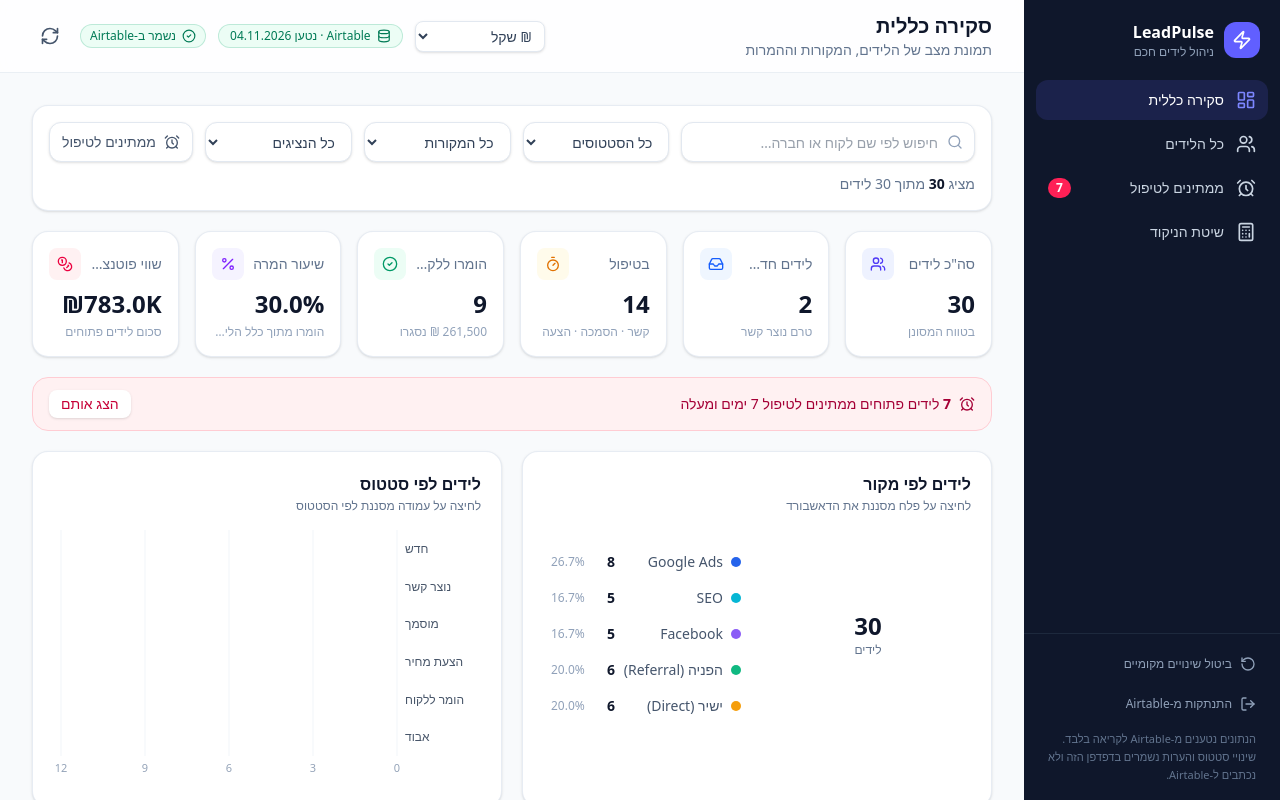
useAirtableSync (SPEC X2) › network failure: 3 retries, then an error with "נסה שוב" that succeeds
Click the button "כל הלידים": {"x": 1152, "y": 144} [1036,124,1268,164]
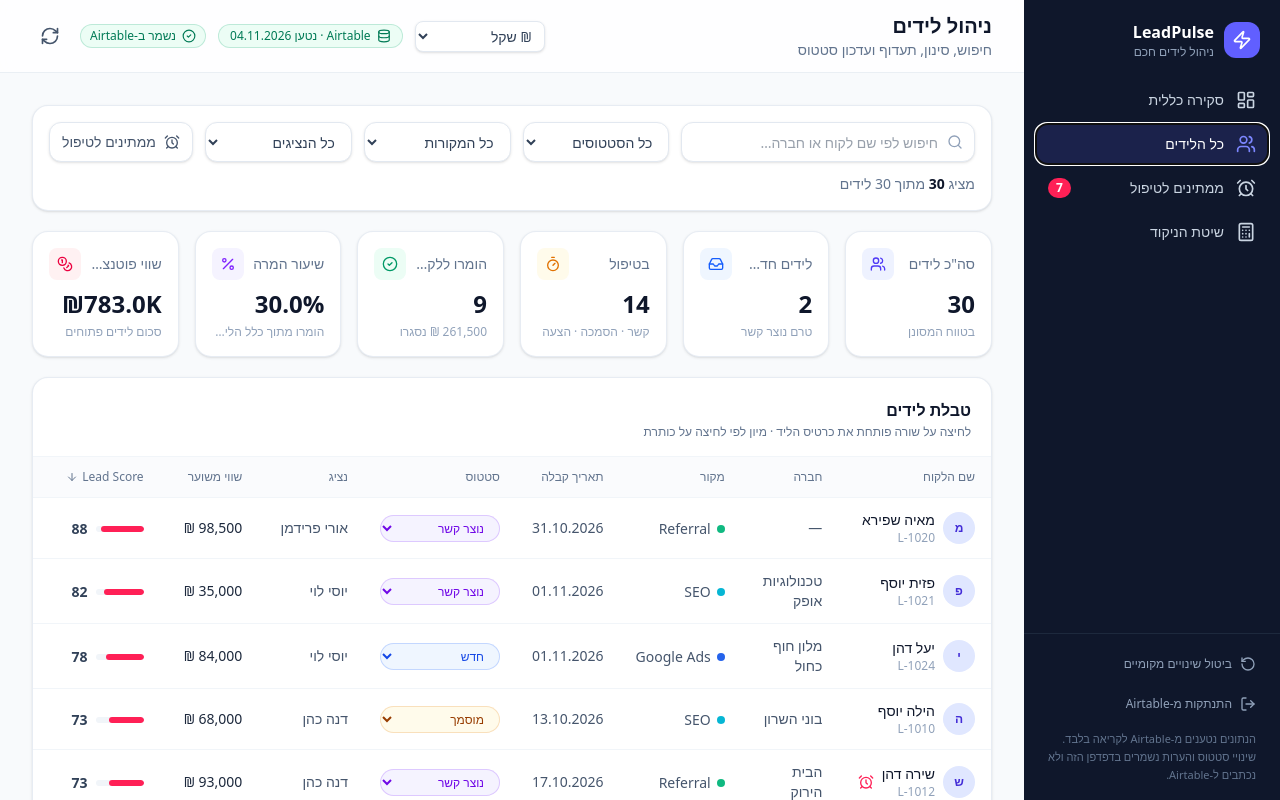
Select "הומר ללקוח" in the dropdown named "שינוי סטטוס עבור": {"x": 440, "y": 528} [380,514,500,542]
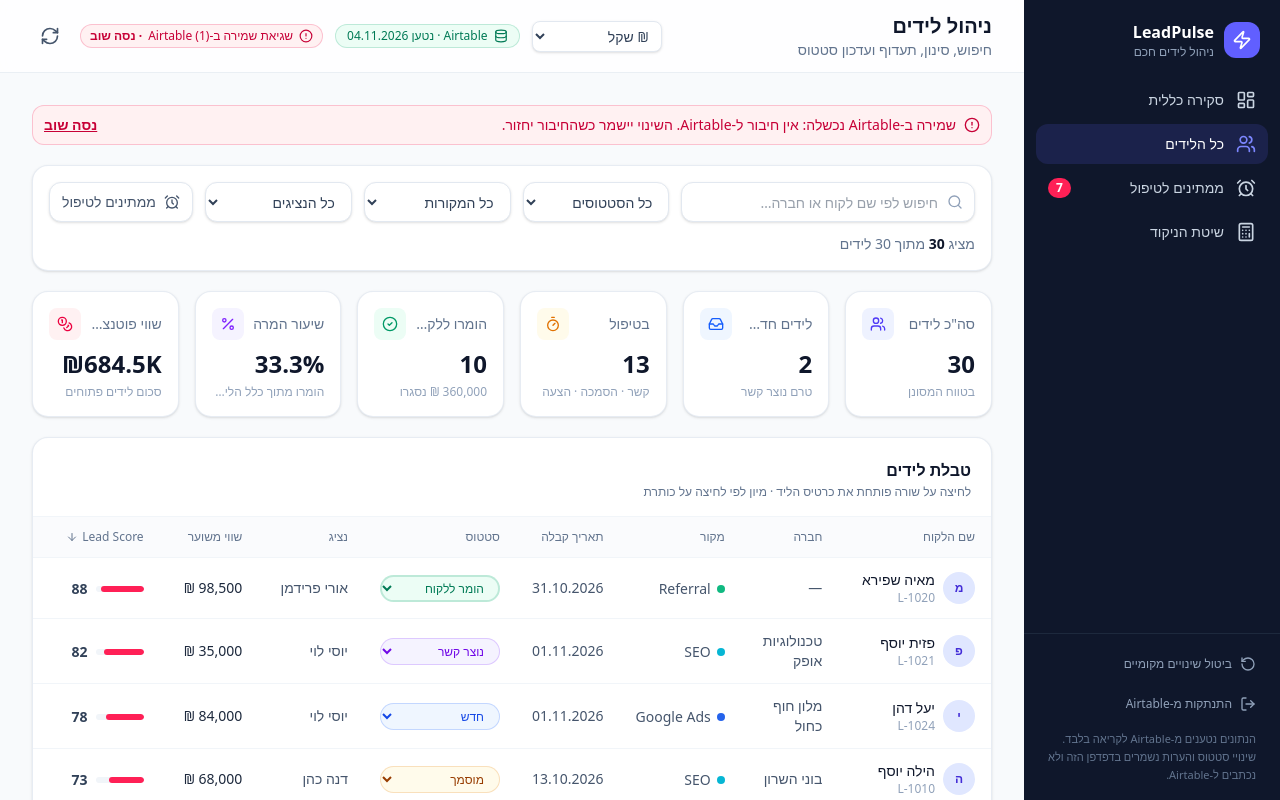
Expected: the message with test id "sync-error" shows "אין חיבור ל-Airtable", [502,115,799,134]
Click the button "נסה שוב": {"x": 71, "y": 125} [44,115,97,135]
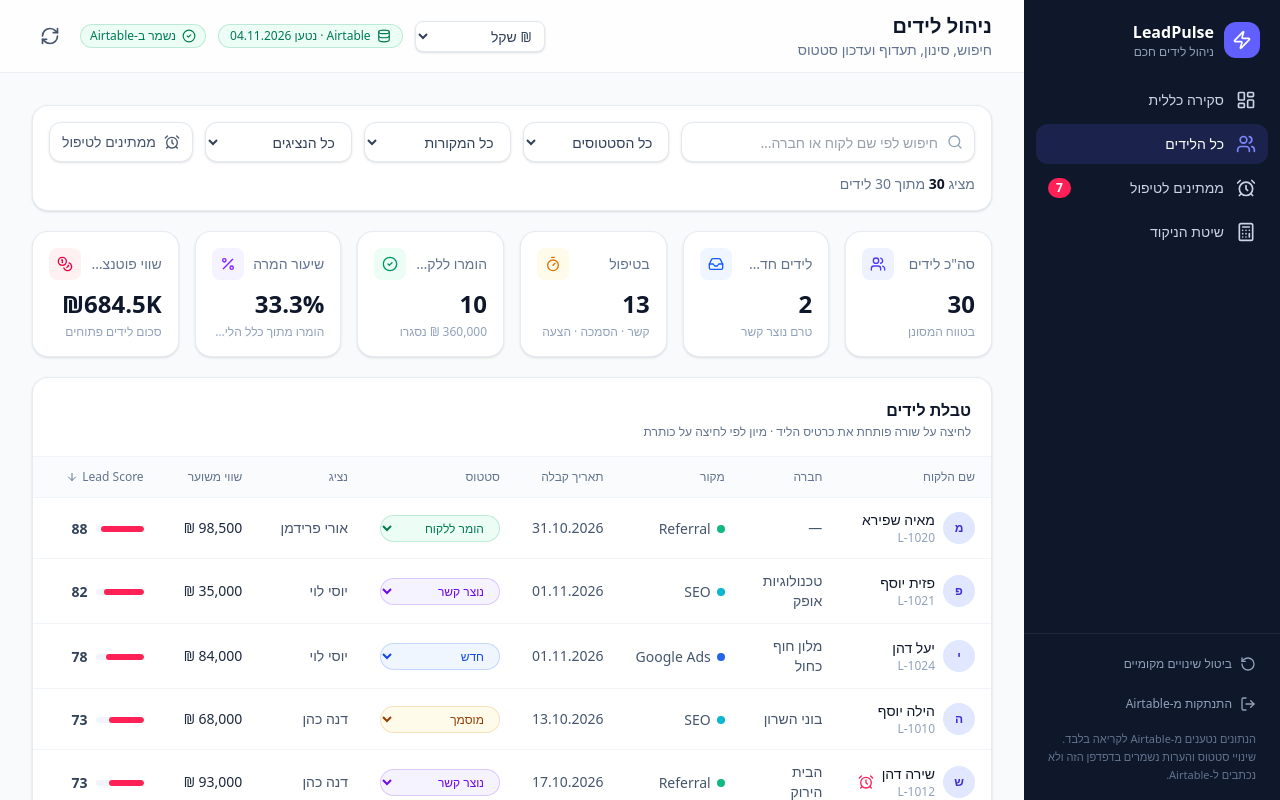
Expected: the message with test id "sync-error" is gone
